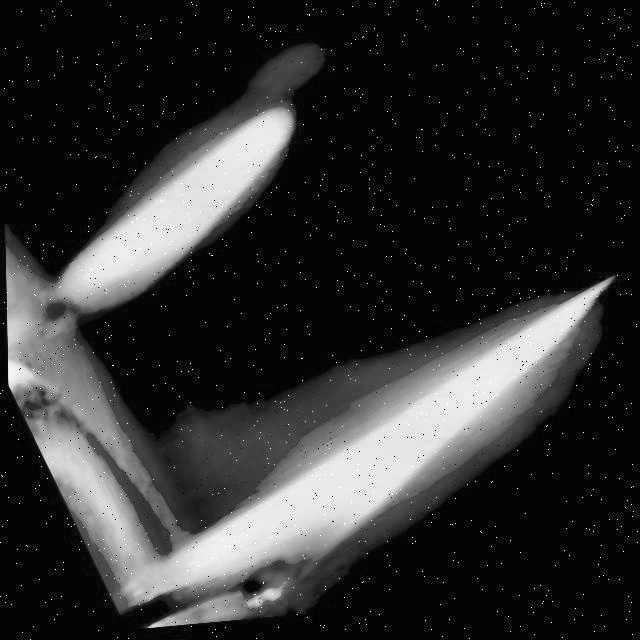Fire: (83, 283, 640, 635), (31, 102, 331, 332)
